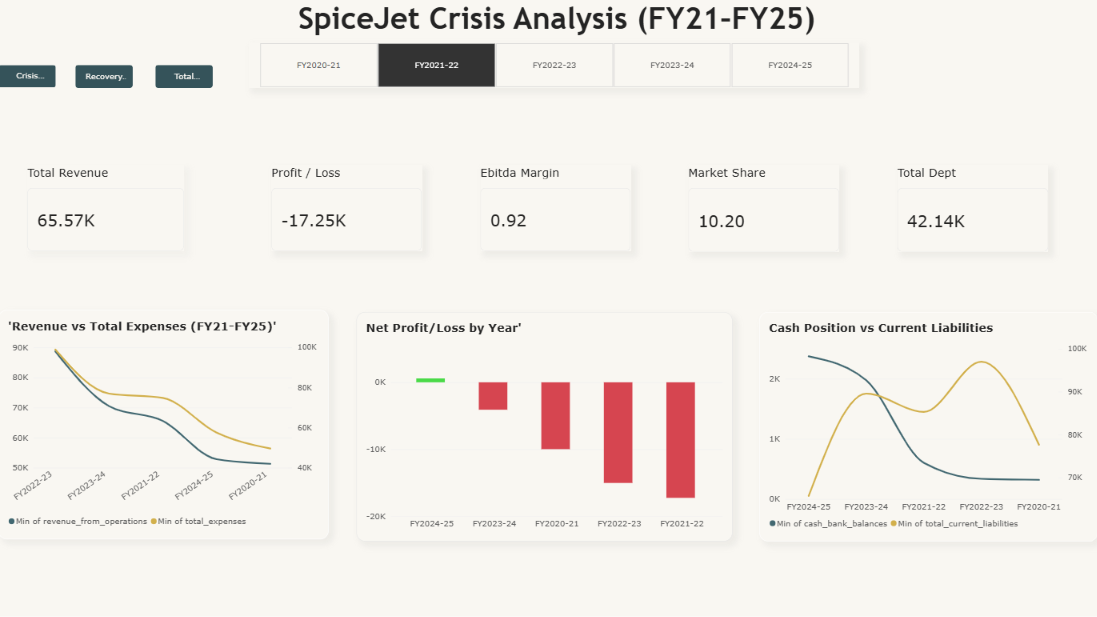

This screenshot's page, from the dashboard's own definition file:
{"tool":"powerbi","page":{"name":"EXICUTIVE SUMMARY","canvas":[1920,1080],"ordinal":0},"visuals":[{"type":"textbox","box":[9,0,1732.4,68.7],"z":0},{"type":"cardVisual","title":"Profit / Loss","fields":{"Data":["spicejet_analysis financial_summary.sum_proft_loss"]},"box":[476.1,288,262.8,150.7],"z":1000},{"type":"cardVisual","title":"Ebitda Margin","fields":{"Data":["spicejet_analysis financial_summary.ebitda_marginreal"]},"box":[840,288,262.8,150.7],"z":2000},{"type":"cardVisual","title":"Market Share","fields":{"Data":["spicejet_analysis financial_summary.market share"]},"box":[1203.9,288,263,151],"z":3000},{"type":"cardVisual","title":"Total Dept","fields":{"Data":["spicejet_analysis financial_summary.Latest Total Debt"]},"box":[1568,288,263,151],"z":4000},{"type":"lineChart","title":"''Revenue vs Total Expenses (FY21-FY25)''","fields":{"Category":["spicejet_analysis financial_summary.fiscal_year"],"Y":["Min(spicejet_analysis financial_summary.revenue_from_operations)"],"Y2":["Min(spicejet_analysis financial_summary.total_expenses)"]},"box":[0,540.7,576,400],"z":5000},{"type":"columnChart","title":"Net Profit/Loss by Year''","fields":{"Category":["spicejet_analysis financial_summary.fiscal_year"],"Y":["Min(spicejet_analysis financial_summary.net_profit_loss)"]},"box":[624,544,656,400],"z":6000},{"type":"lineChart","title":"Cash Position vs Current Liabilities","fields":{"Category":["spicejet_analysis financial_summary.fiscal_year"],"Y":["Min(spicejet_analysis financial_summary.cash_bank_balances)"],"Y2":["Min(spicejet_analysis financial_summary.total_current_liabilities)"]},"box":[1328,544,592,400],"z":7000},{"type":"slicer","fields":{"Values":["spicejet_analysis financial_summary.fiscal_year"]},"box":[436,73.3,1065.7,80.2],"z":8000},{"type":"actionButton","box":[135.2,113.4,100,40],"z":9000},{"type":"actionButton","box":[274.7,113.4,100,40],"z":10000},{"type":"actionButton","box":[0,113.4,100.3,39.2],"z":11000},{"type":"cardVisual","title":"Total Revenue","fields":{"Data":["spicejet_analysis financial_summary.total_revenue"]},"box":[50.6,287.8,273.8,150],"z":12000}]}

Visuals, with their boxes in screenshot pixels (x1, y1, x2, y2), scaled from the page's 1920x1080 canvas onto the 1097x617 screenshot:
textbox: 5:0:995:39
"Profit / Loss" cardVisual: 272:165:422:251
"Ebitda Margin" cardVisual: 480:165:630:251
"Market Share" cardVisual: 688:165:838:251
"Total Dept" cardVisual: 896:165:1046:251
"''Revenue vs Total Expenses (FY21-FY25)''" lineChart: 0:309:329:537
"Net Profit/Loss by Year''" columnChart: 357:311:731:539
"Cash Position vs Current Liabilities" lineChart: 759:311:1096:539
slicer - spicejet_analysis financial_summary.fiscal_year: 249:42:858:88
actionButton: 77:65:134:88
actionButton: 157:65:214:88
actionButton: 0:65:57:87
"Total Revenue" cardVisual: 29:164:185:250
